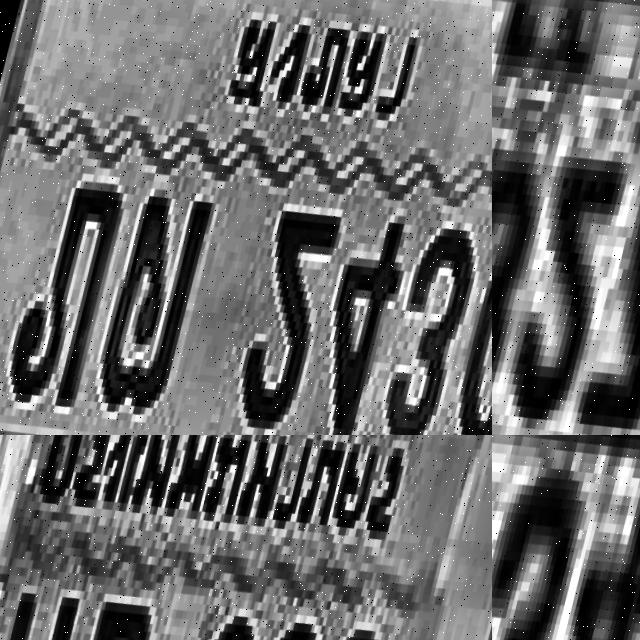license-plate: (0, 0, 492, 435), (0, 435, 492, 640), (492, 0, 640, 435), (492, 435, 640, 640)
